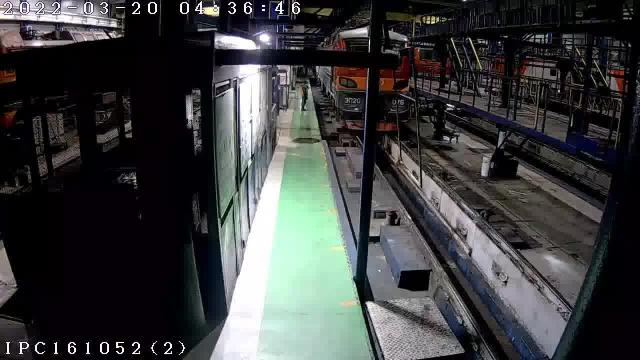person: (301, 81, 309, 110)
train: (377, 31, 409, 130)
